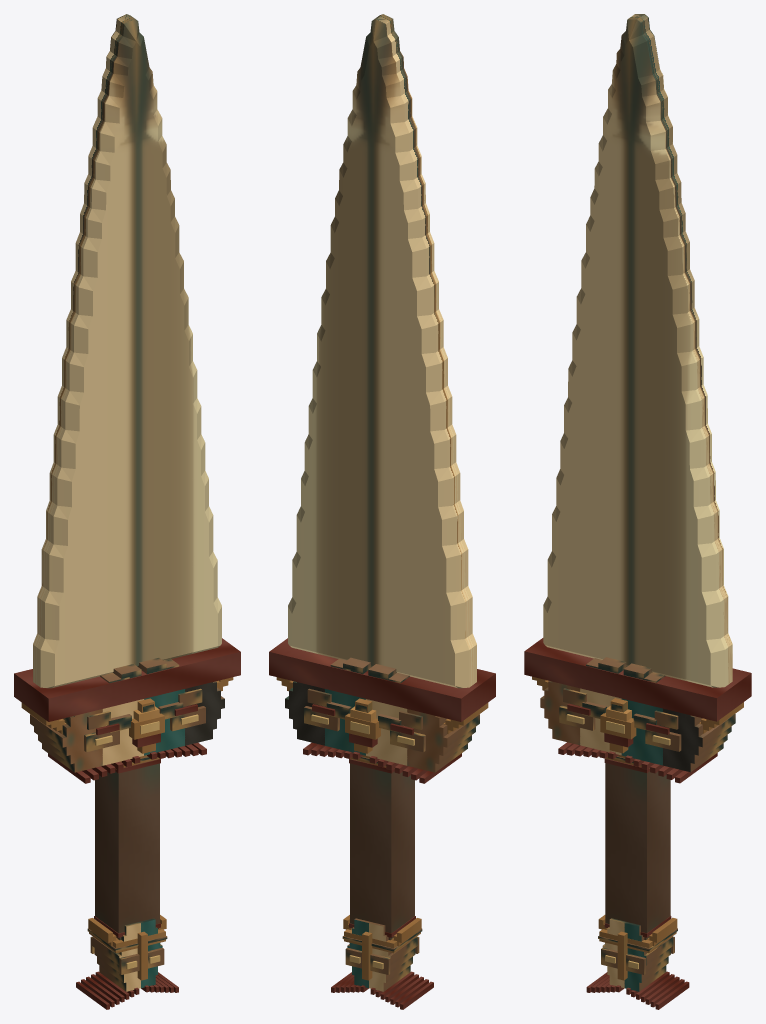
File: bronze_dagger.obj
The picture shows the model from 3 angles, left to right: view 1: azimuth 30°, elevation 25°; view 2: azimuth 150°, elevation 25°; view 3: azimuth 330°, elevation 25°; orthographic projection.
Visible parts, largest first — view 1: bronze_dagger; view 2: bronze_dagger; view 3: bronze_dagger.
Part boxes in pixels (<box>): bronze_dagger: <box>14,14,240,1009</box>; bronze_dagger: <box>269,14,495,1009</box>; bronze_dagger: <box>524,14,751,1009</box>.
Bounding box in the file's own units: 0.3375 × 1.63 × 0.1385.
